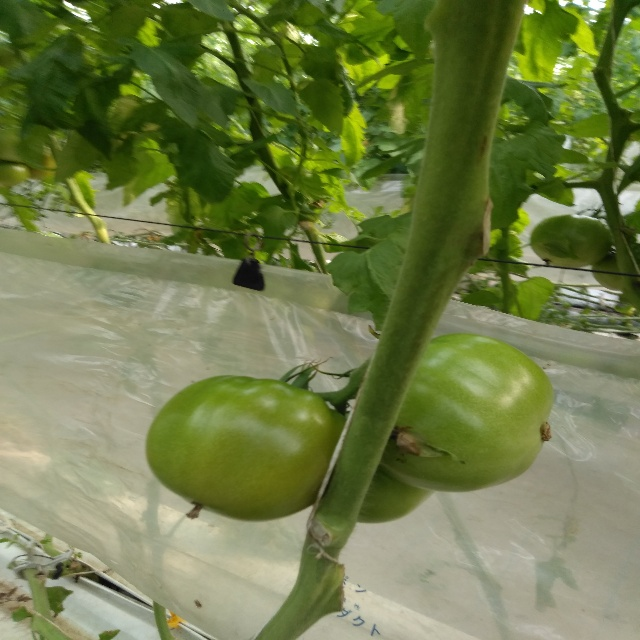b_green: (144, 375, 347, 523), (377, 333, 554, 493), (357, 466, 436, 524), (531, 215, 612, 268), (591, 252, 625, 291), (0, 161, 29, 188)
